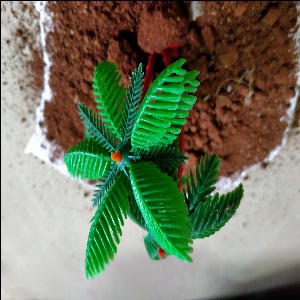plant: (62, 58, 247, 285)
